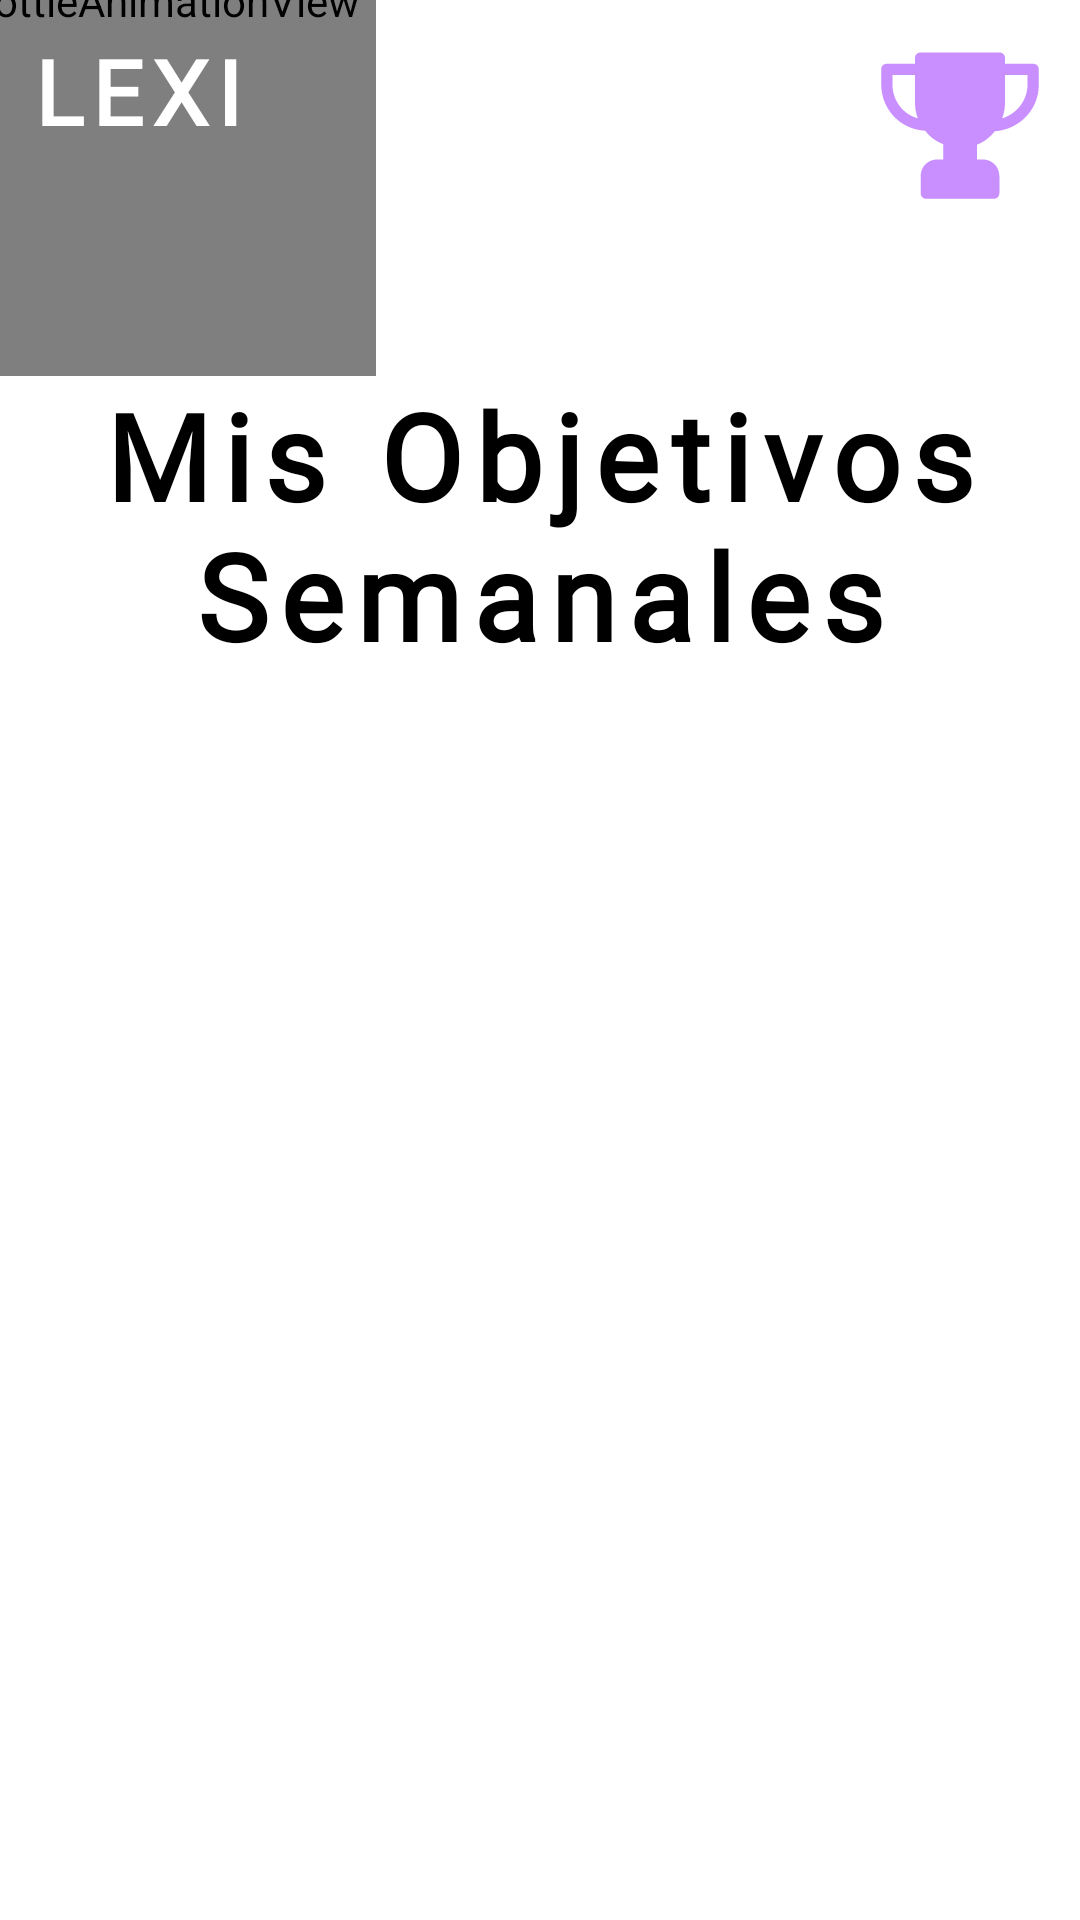

Screen size 1080w x 1920h. Icon name, then its box in pixels as (x1, y1, x2, y2):
cup: (881, 52, 1039, 199)
